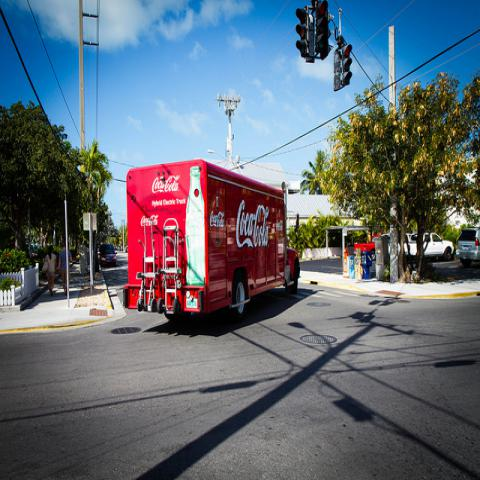car: (455, 227, 479, 266), (354, 235, 381, 260), (100, 248, 117, 267)
truck: (124, 160, 302, 324), (422, 233, 457, 260)
